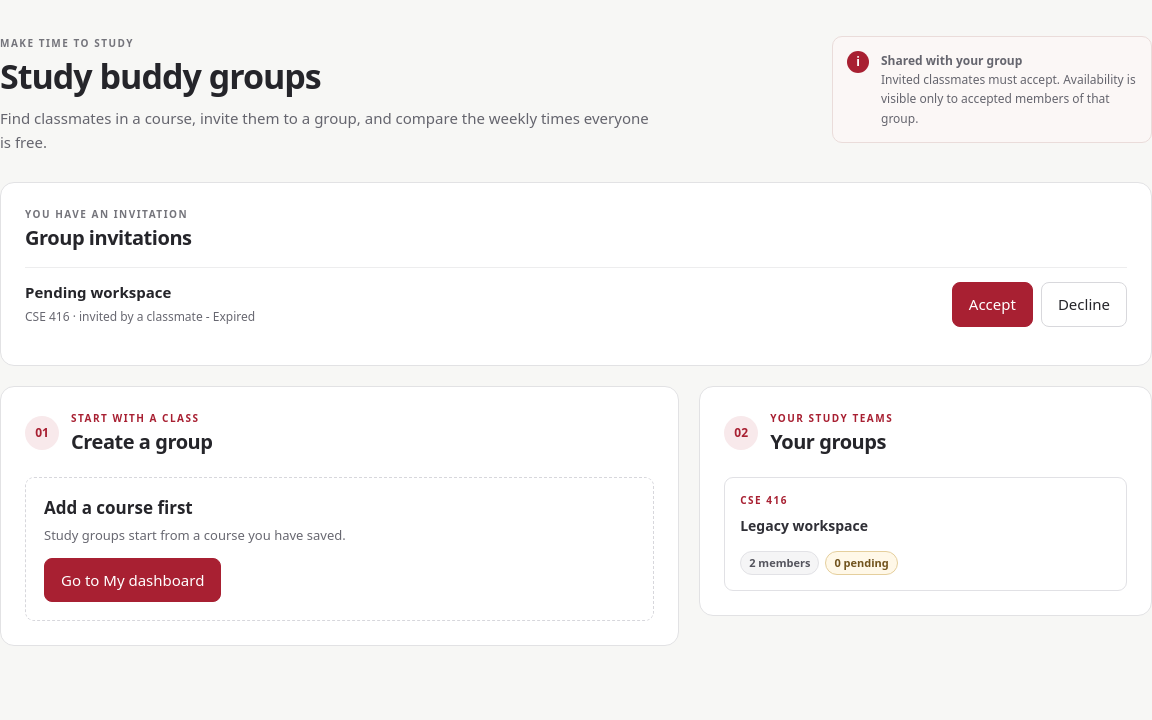
Test: Study warnings exclude invitation previews and appear only in the selected accepted legacy workspace without can_invite
expect the heading "Pending workspace" is shown: met, box [25, 282, 171, 302]
Click the button "CSE 416 Legacy workspace 2 members 0 pending" at (764, 500), box [724, 477, 1127, 591]
(page scrolled)
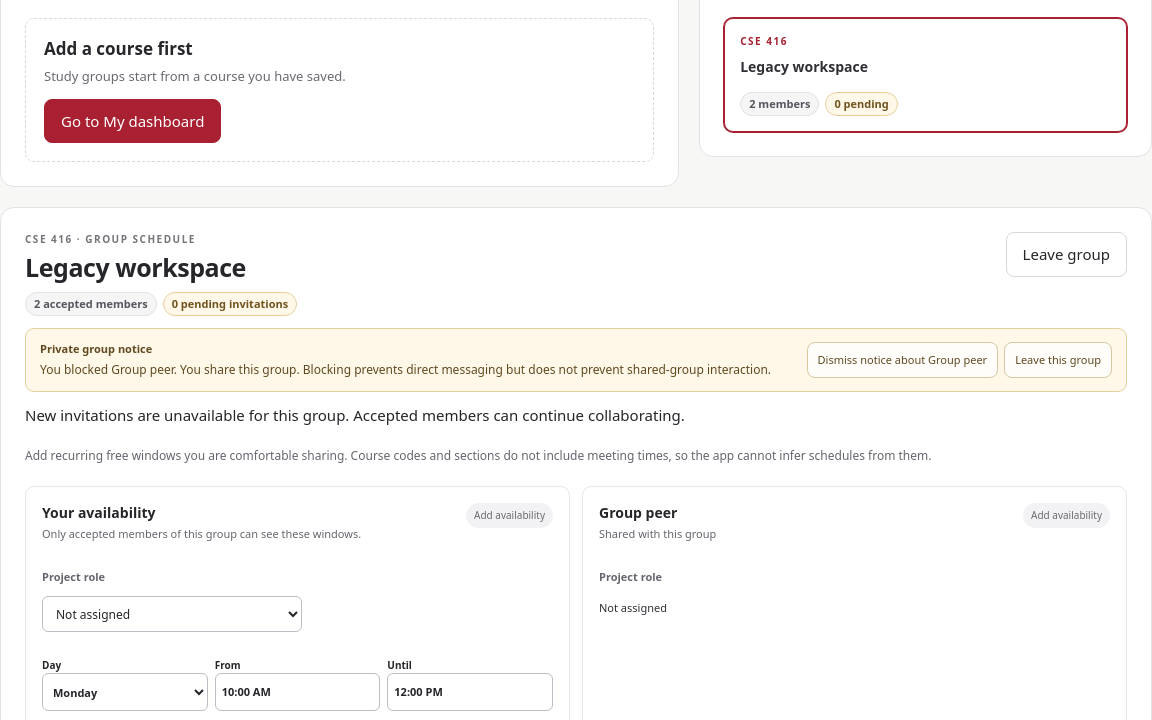
expect the text "You blocked Group peer" is shown: met, box [40, 361, 790, 379]
Click the button "Leave this group" at (1058, 360), box [1004, 342, 1112, 378]
(page scrolled)
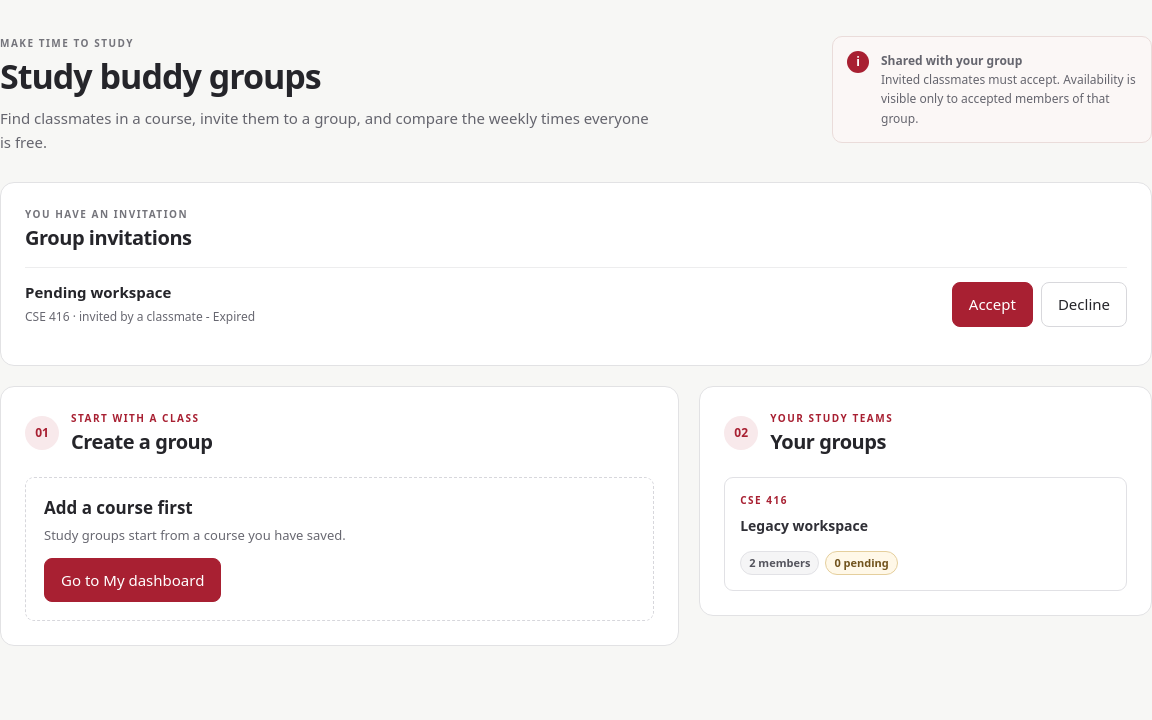
expect the text "You blocked Group peer" is gone: met
